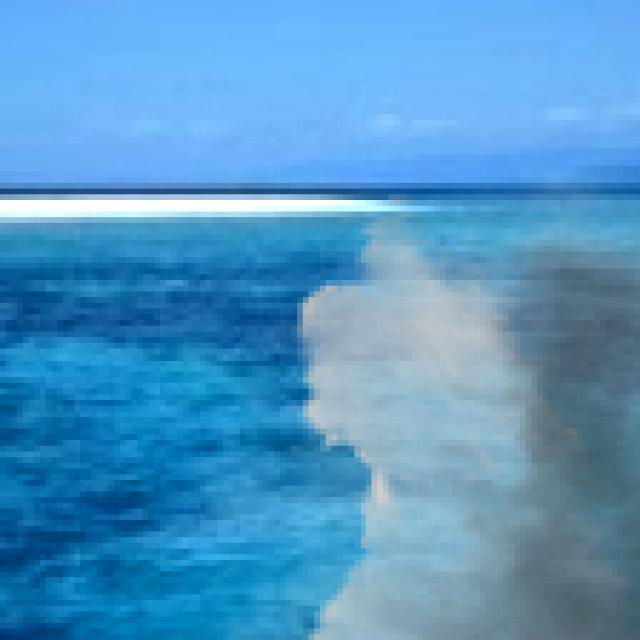smoke: (131, 165, 639, 640)
